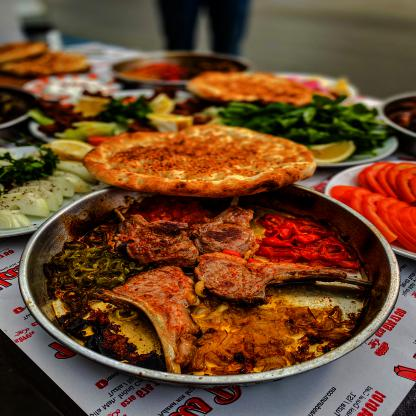Carne: (110, 217, 223, 268), (192, 252, 294, 305), (118, 271, 194, 334)
